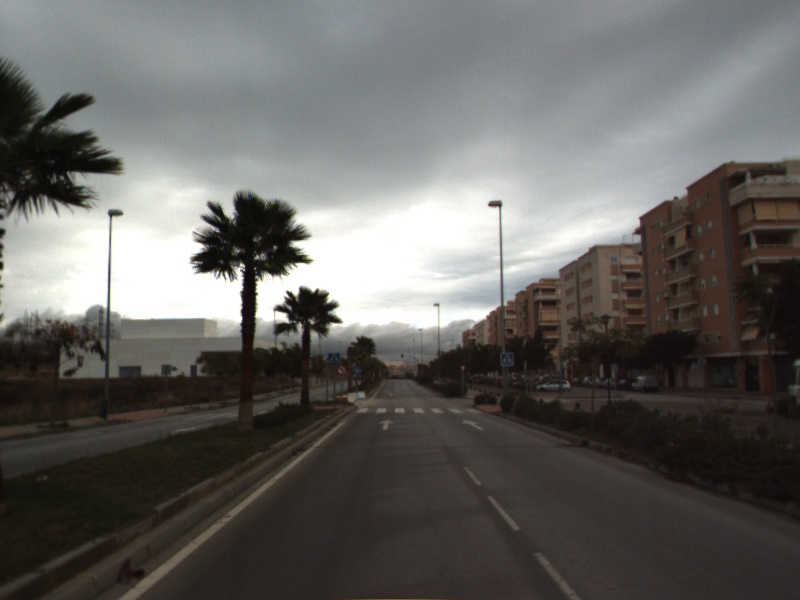STRAIGHT: (460, 418, 486, 432), (376, 417, 397, 432)
